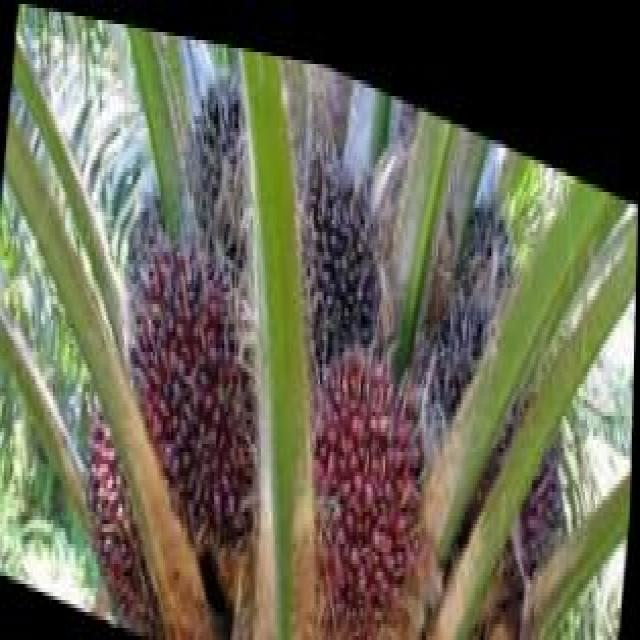Ripefruit: (122, 220, 280, 556), (297, 308, 433, 640), (67, 386, 169, 618)
